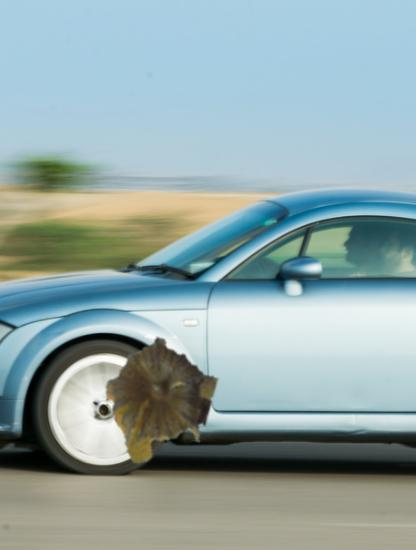Physalis: (90, 336, 223, 469)
